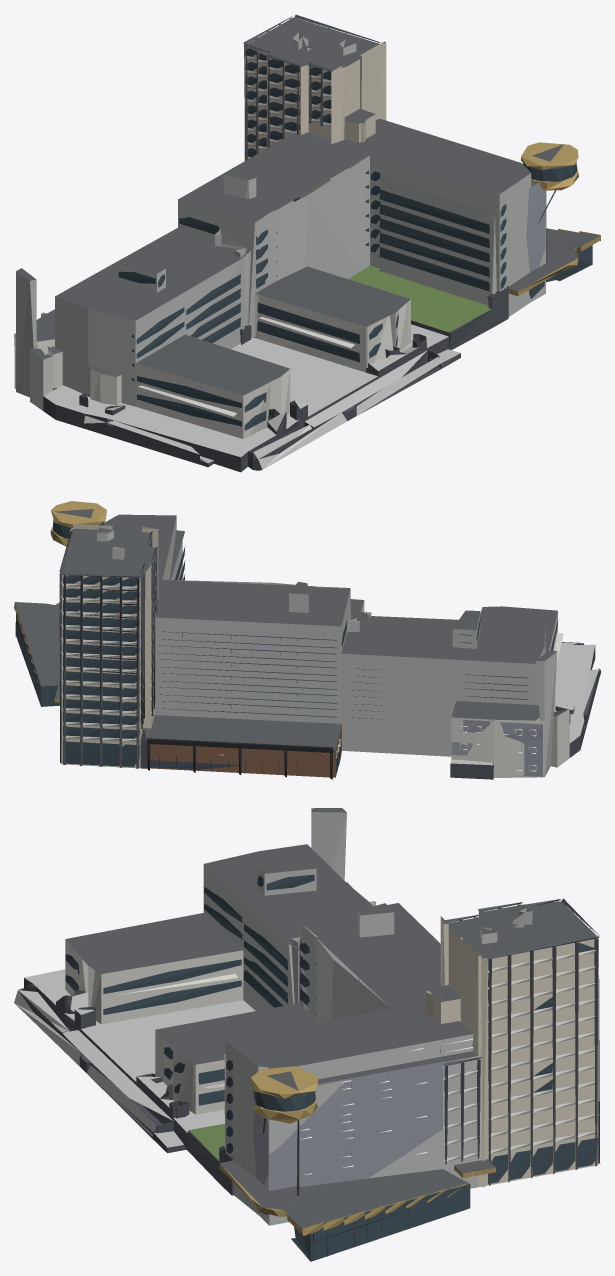
File: byzantium.lod1.glb
3 views of the same model, one above another, from view 1: azimuth 30°, elevation 25°; view 2: azimuth 150°, elevation 25°; view 3: azimuth 270°, elevation 25° (orthographic). The views are drawn at different scales.
Parts seen in each view (by area): view 1: byzantium; view 2: byzantium; view 3: byzantium.
Part boxes in pixels (x1=…): byzantium: x1=14, y1=14, x2=600, y2=472; byzantium: x1=14, y1=501, x2=600, y2=779; byzantium: x1=14, y1=808, x2=600, y2=1261.
Size of the model in its own units: 117 by 41.3 by 91.15.
